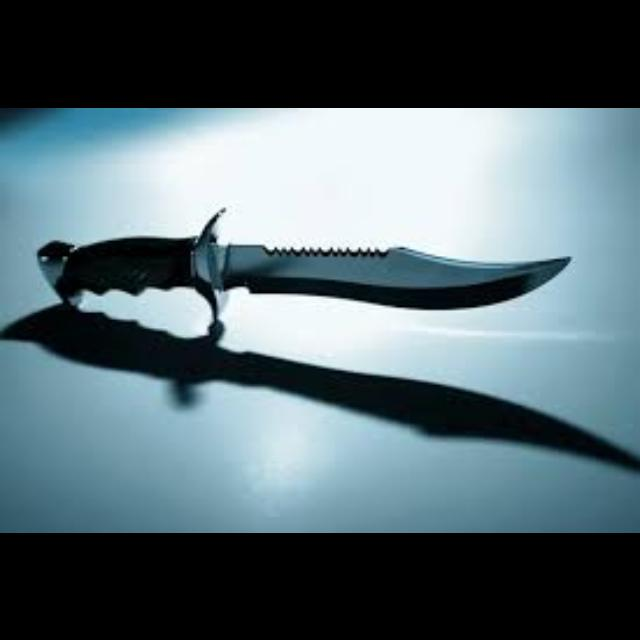knife: (0, 300, 638, 474), (35, 205, 572, 323)
